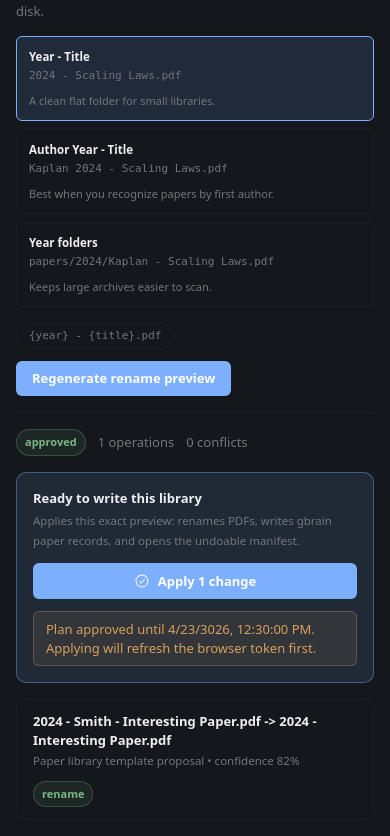
it: PaperLibraryCommandCenter › refreshes approval for a restored approved plan when the browser token is missing
(page scrolled)
Check: the text "1 operations" is shown, box [98, 433, 174, 452]
Check: the text "Applying will refresh the browser token first" is shown, box [46, 620, 316, 657]
Click the button "Apply 1 change": (195, 581) [33, 563, 357, 599]
(page scrolled)
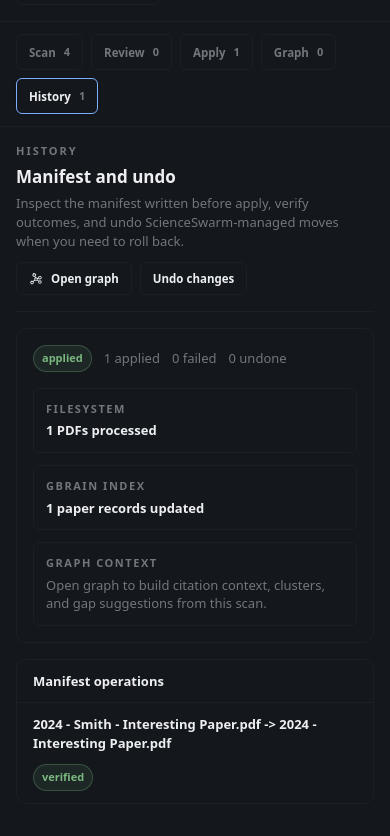
Check: the heading "Manifest and undo" is shown, box [16, 165, 176, 188]
Check: the text "1 applied" is shown, box [104, 349, 160, 368]
